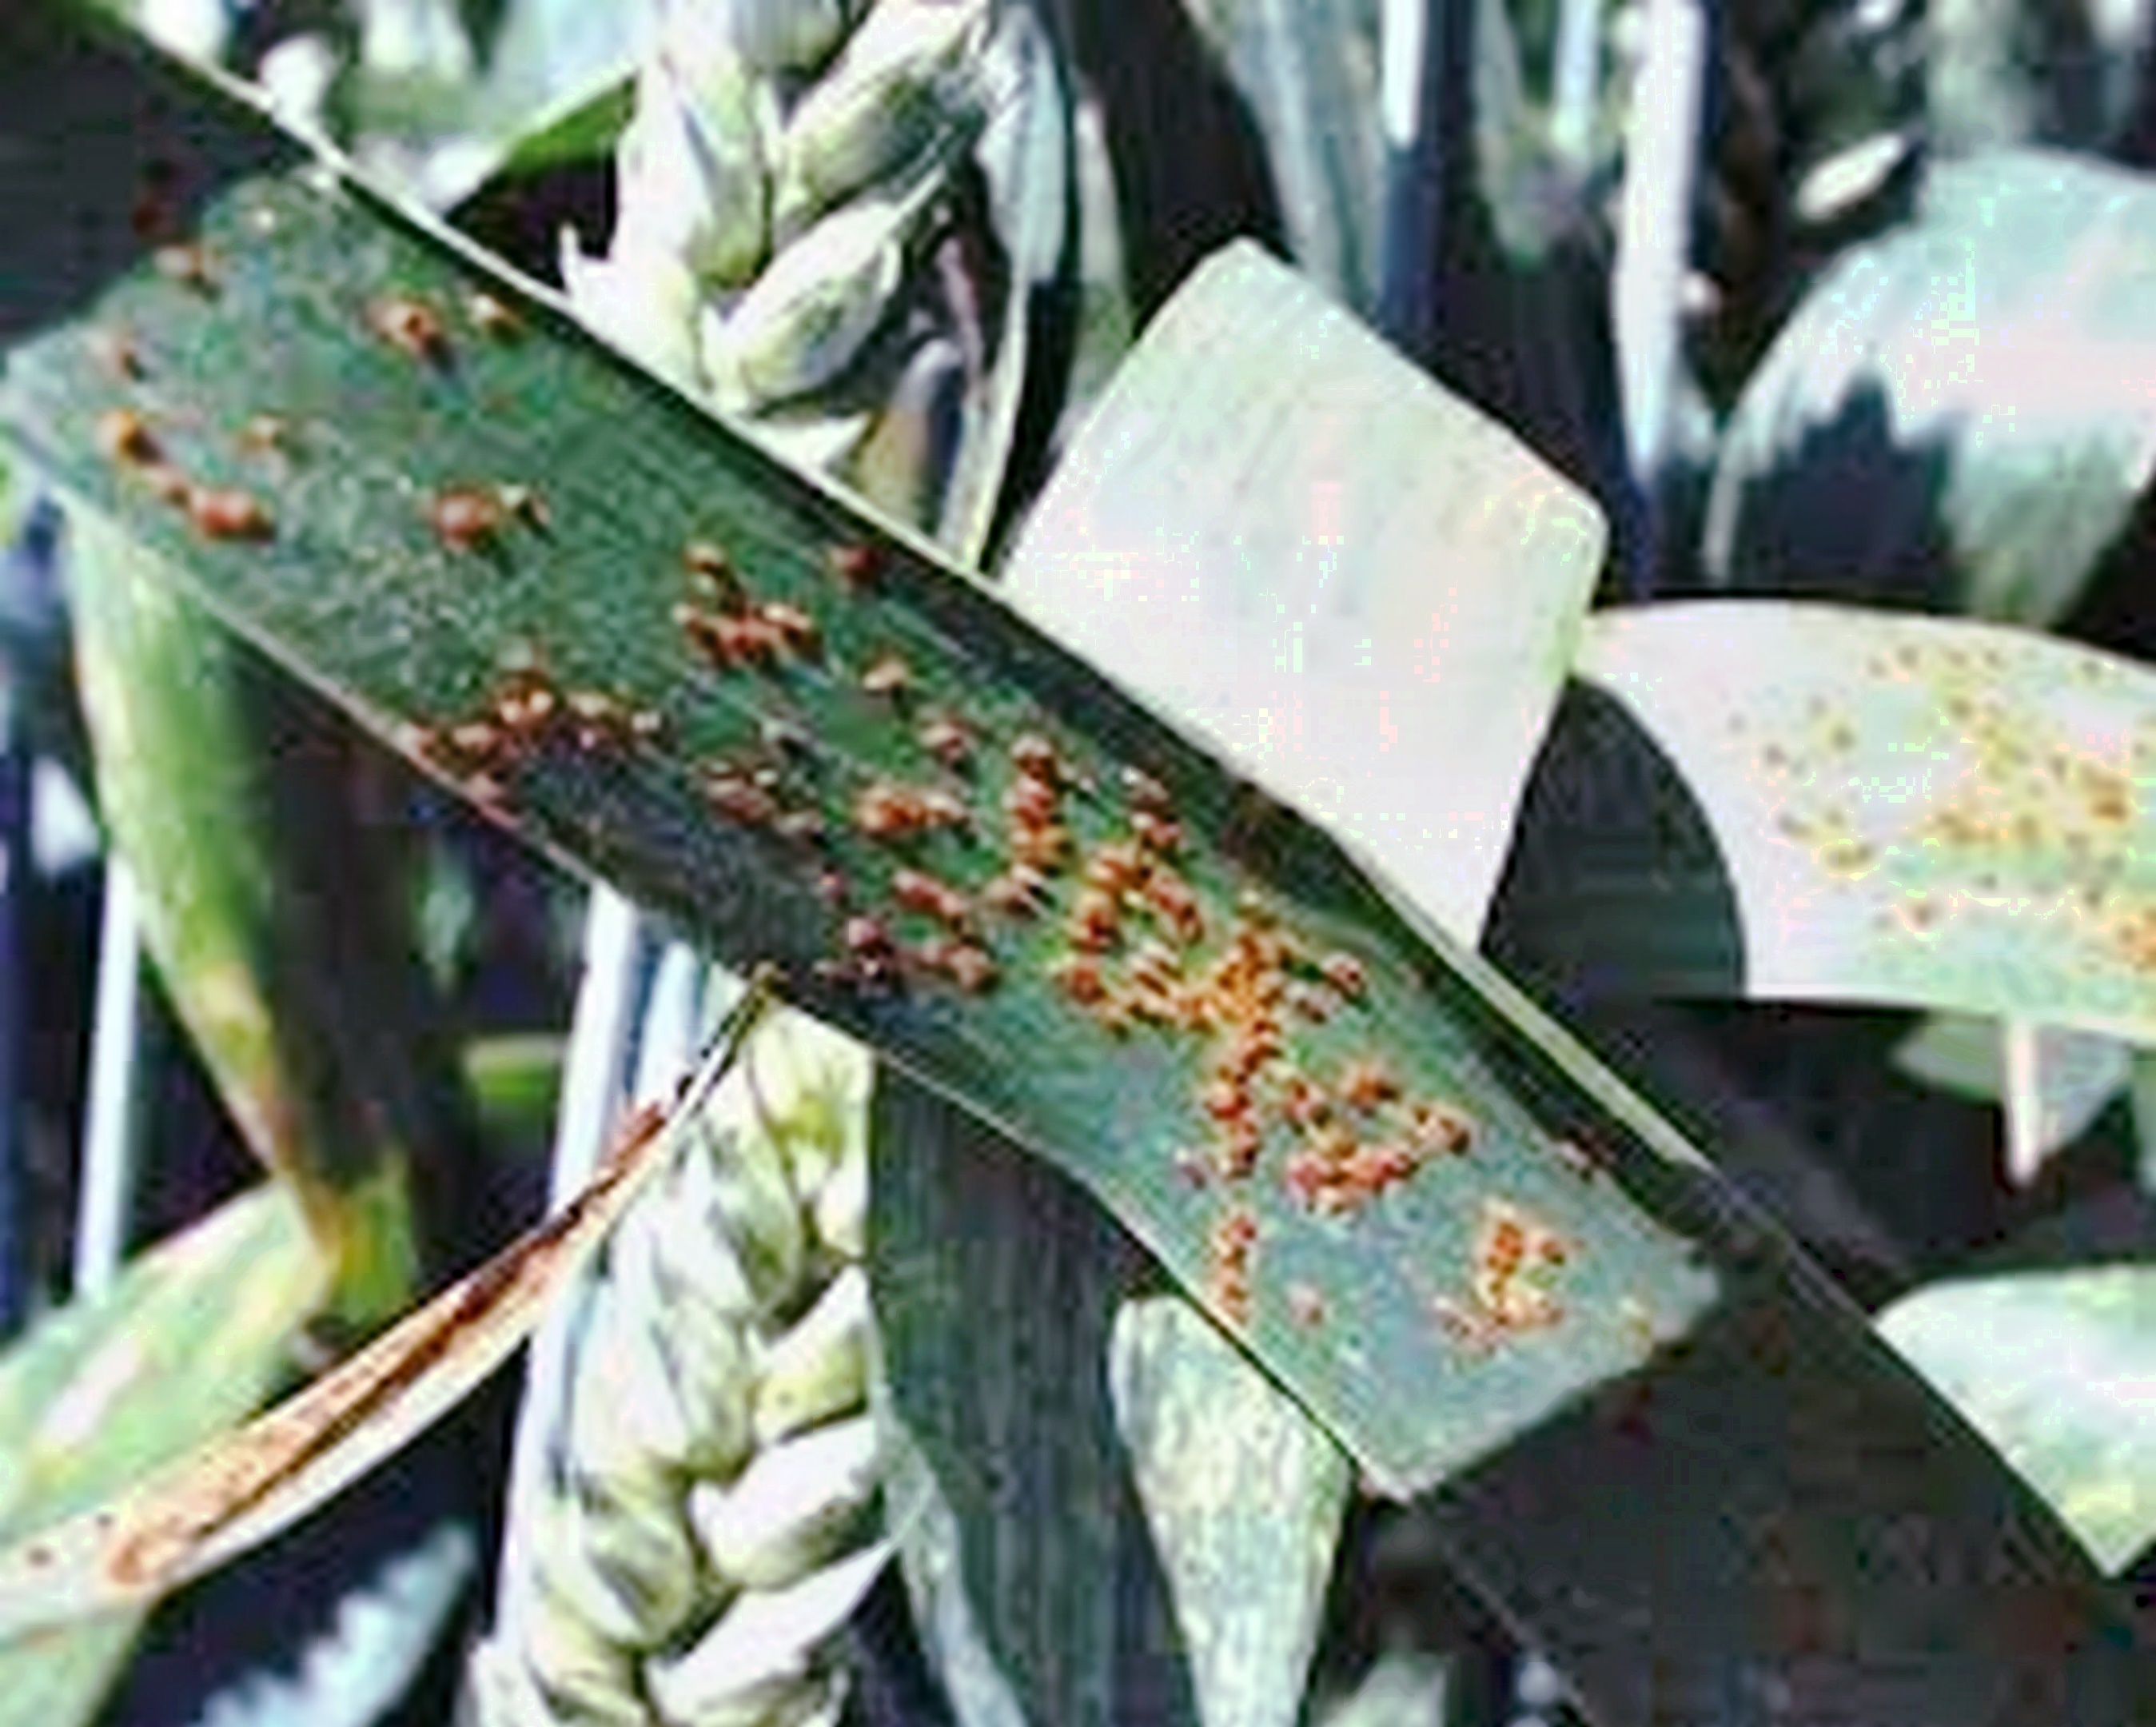Leaf Rust: (507, 537, 1517, 1343)
